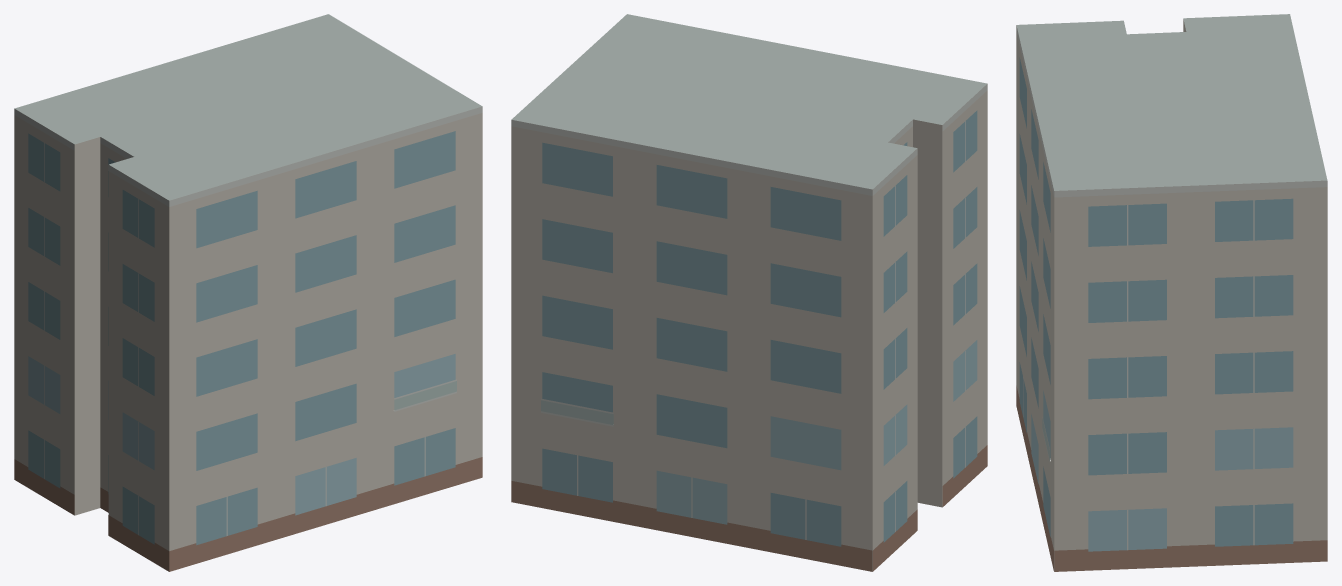
Rendered from survey-upis-32632841.glb.
3 views of the same model, side by side, from view 1: azimuth 30°, elevation 25°; view 2: azimuth 150°, elevation 25°; view 3: azimuth 270°, elevation 25° (orthographic). The views are drawn at different scales.
Visible parts, largest first — view 1: survey-upis-32632841.tmp; view 2: survey-upis-32632841.tmp; view 3: survey-upis-32632841.tmp.
Boxes of the visible parts, left/top/right/bottom form: survey-upis-32632841.tmp: left=14, top=14, right=482, bottom=571; survey-upis-32632841.tmp: left=511, top=14, right=987, bottom=571; survey-upis-32632841.tmp: left=1016, top=14, right=1327, bottom=571.
Size of the model in its own units: 14.26 by 14.3 by 10.59.
